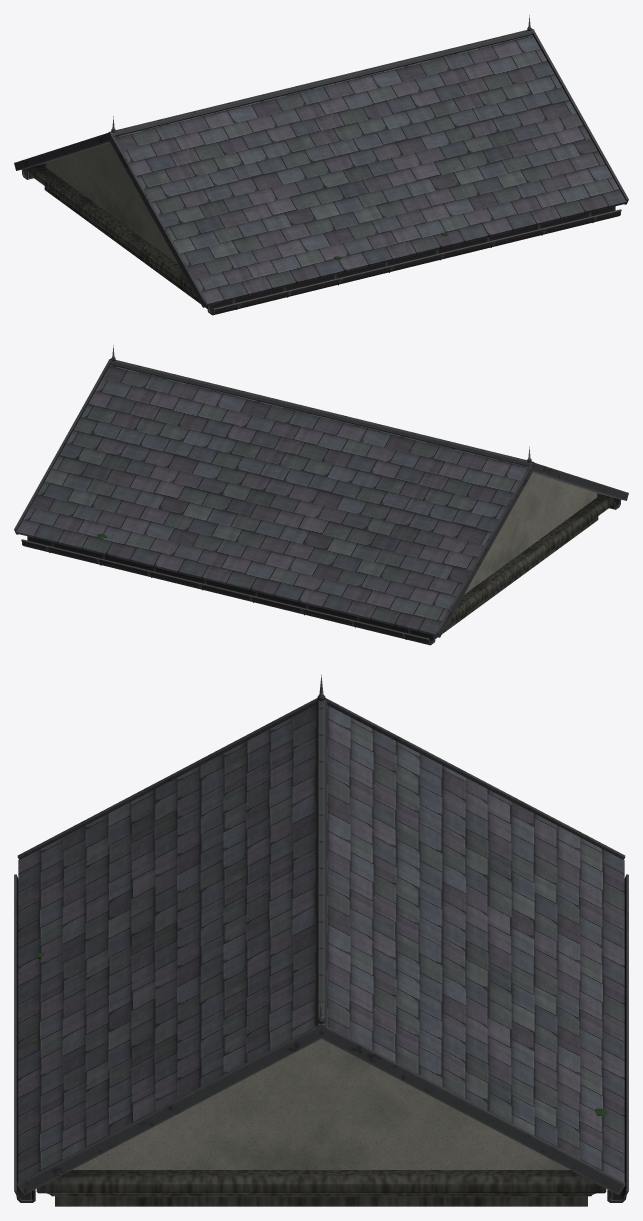
Rendered from GableRoofLow.fbx.
3 renders of one model, top to bottom at view 1: azimuth 30°, elevation 25°; view 2: azimuth 150°, elevation 25°; view 3: azimuth 270°, elevation 25°, orthographic. The views are drawn at different scales.
Visible parts, largest first — view 1: GableRoofLow_Slate, GableRoofLow_Main, GableRoofLow_Stone; view 2: GableRoofLow_Slate, GableRoofLow_Main, GableRoofLow_Stone; view 3: GableRoofLow_Slate, GableRoofLow_Main, GableRoofLow_Stone.
Part boxes in pixels (<box>): GableRoofLow_Slate: <box>115,35,626,306</box>; GableRoofLow_Main: <box>14,15,628,315</box>; GableRoofLow_Stone: <box>45,143,178,264</box>; GableRoofLow_Slate: <box>16,365,527,636</box>; GableRoofLow_Main: <box>14,345,628,645</box>; GableRoofLow_Stone: <box>464,473,597,594</box>; GableRoofLow_Slate: <box>18,705,624,1190</box>; GableRoofLow_Main: <box>14,674,628,1206</box>; GableRoofLow_Stone: <box>72,1039,570,1169</box>.
Size of the model in its own units: 1763 by 552 by 1392.
